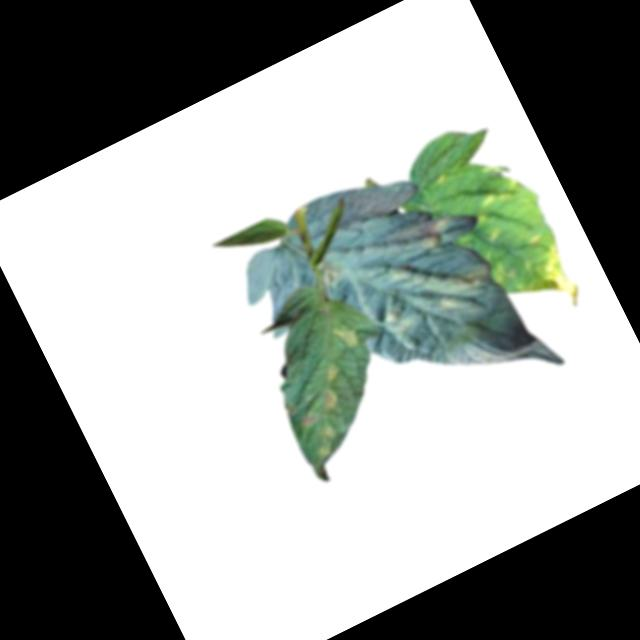Leaf_Mold: (388, 230, 502, 332), (512, 238, 590, 324), (384, 204, 459, 266), (468, 173, 533, 227), (310, 360, 358, 414), (377, 300, 417, 344), (330, 317, 367, 357), (314, 254, 352, 290)
